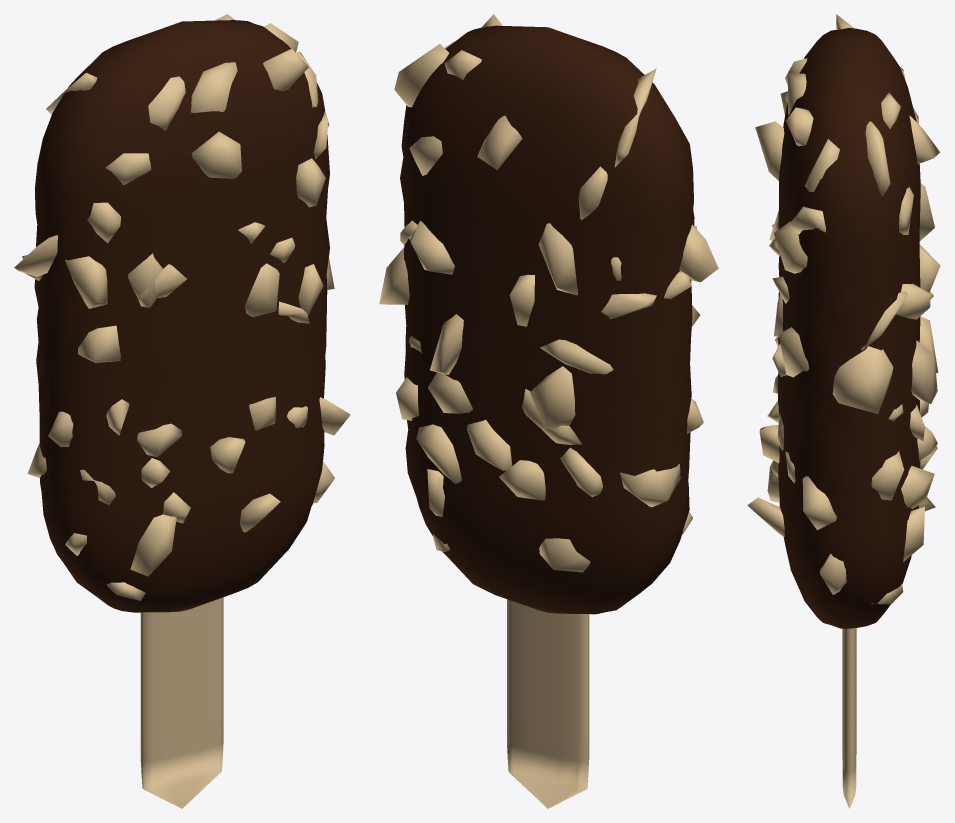
Rendered from bar.glb.
3 views of the same model, side by side, from view 1: azimuth 30°, elevation 25°; view 2: azimuth 150°, elevation 25°; view 3: azimuth 270°, elevation 25° (orthographic). The views are drawn at different scales.
Parts seen in each view (by area): view 1: chocolate_body, almond_fragments, wood_stick; view 2: chocolate_body, almond_fragments, wood_stick; view 3: chocolate_body, almond_fragments, wood_stick.
Part boxes in pixels (<box>): chocolate_body: <box>34,20,329,612</box>; almond_fragments: <box>14,14,350,600</box>; wood_stick: <box>140,597,223,808</box>; chocolate_body: <box>400,25,694,614</box>; almond_fragments: <box>379,14,718,572</box>; wood_stick: <box>507,599,589,808</box>; chocolate_body: <box>778,27,920,628</box>; almond_fragments: <box>747,14,940,604</box>; wood_stick: <box>842,628,856,808</box>.
Size of the model in its own units: 0.0622 by 0.144 by 0.0329.
